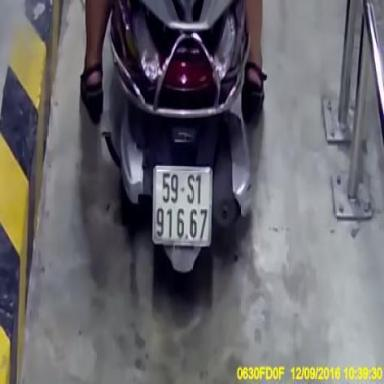License_Plate: (149, 164, 220, 258)
